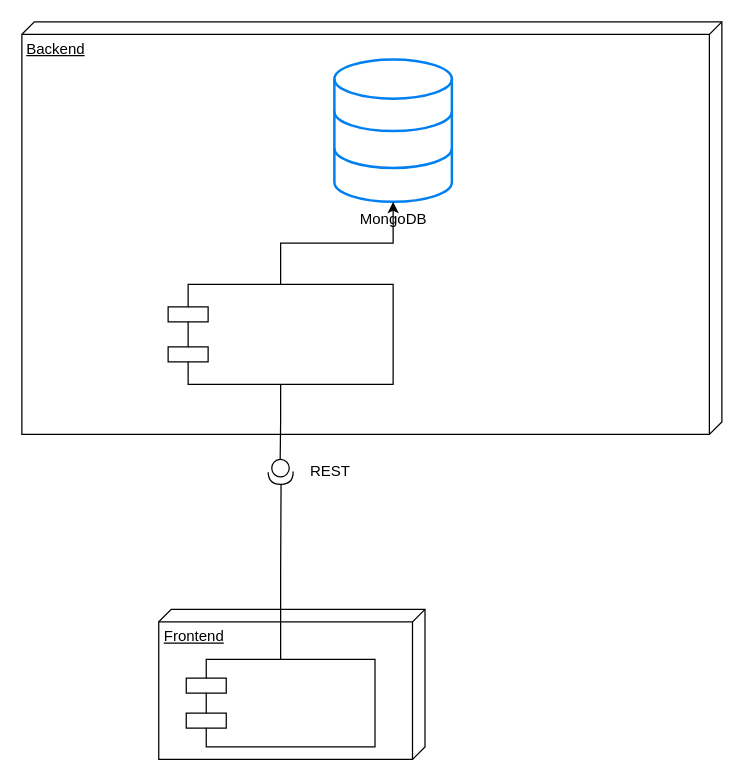
The diagram is 744 pixels wide and 781 high, and some of its shapes have lost their labels. Each missing label, with the centre of its shape:
"API-User-Administration" goes at (280,333).
"User-Managment" goes at (280,702).
